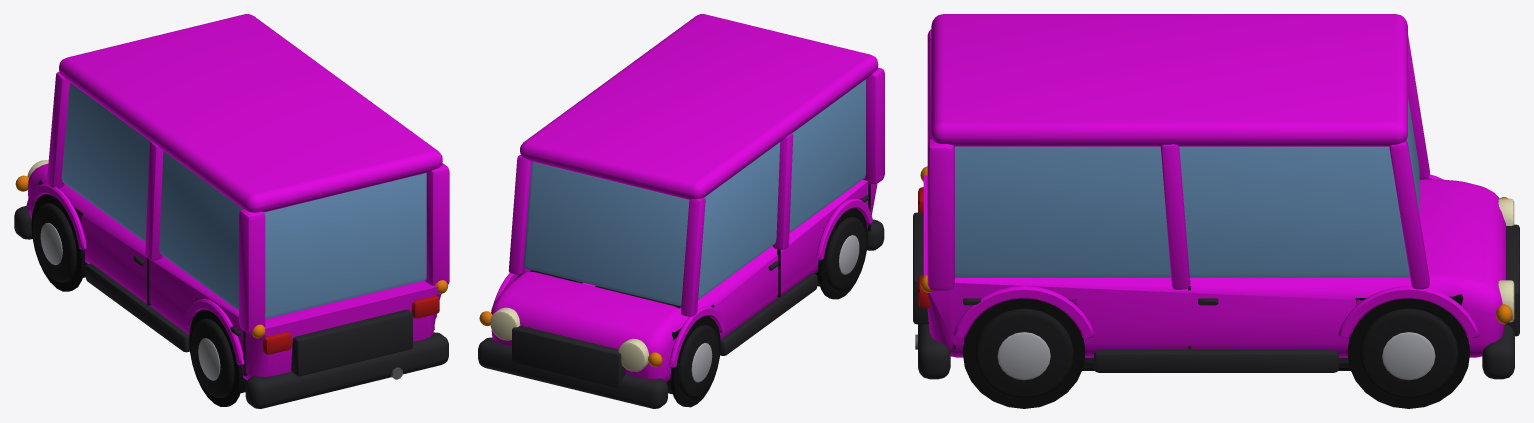
File: KoboCube_Player.fbx
The picture shows the model from 3 angles, left to right: view 1: azimuth 30°, elevation 25°; view 2: azimuth 150°, elevation 25°; view 3: azimuth 270°, elevation 25°; orthographic projection. The views are drawn at different scales.
Visible parts, largest first — view 1: KoboCube_Player; view 2: KoboCube_Player; view 3: KoboCube_Player.
Part boxes in pixels (<box>): KoboCube_Player: <box>14,14,449,408</box>; KoboCube_Player: <box>478,14,884,408</box>; KoboCube_Player: <box>913,14,1519,408</box>.
Size of the model in its own units: 1.72 by 1.87 by 3.63.
